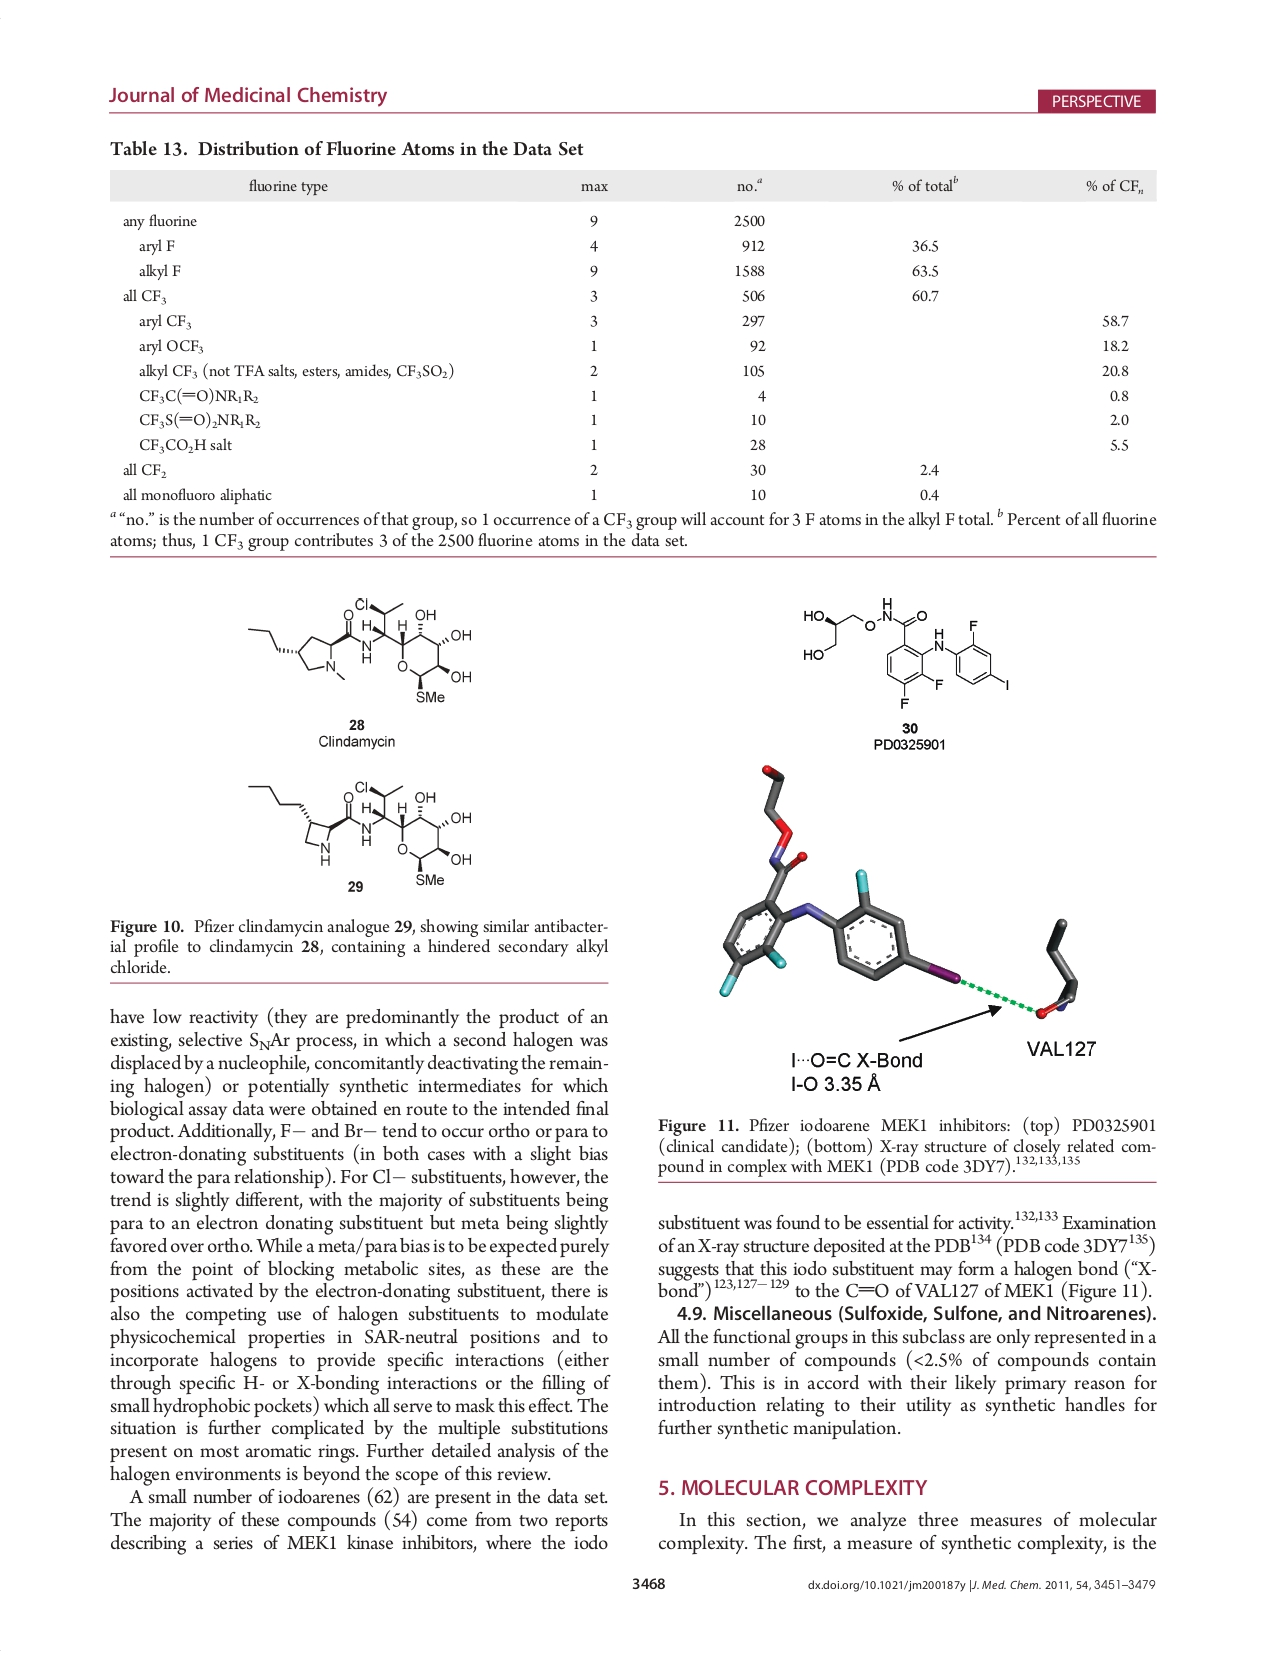exist_molecular: (245, 594, 476, 707), (798, 590, 1012, 711), (245, 777, 473, 887)
